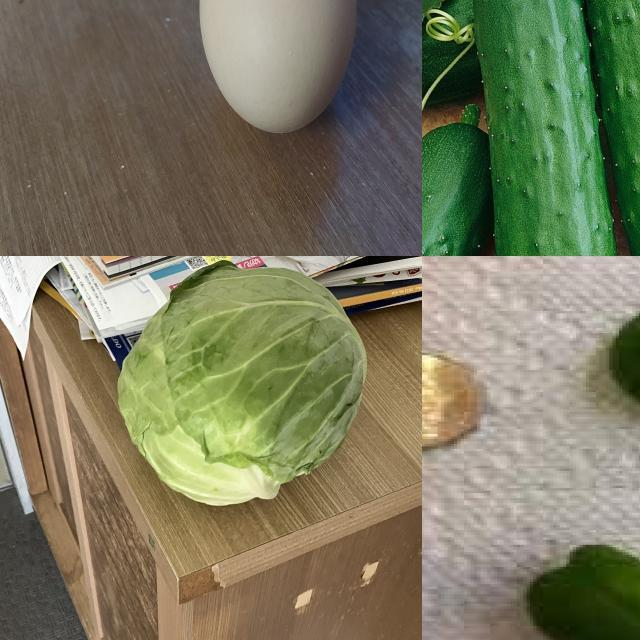bell_pepper: (509, 529, 640, 640)
cabbage: (115, 258, 372, 511)
cucumber: (470, 1, 621, 257), (568, 1, 640, 257), (423, 123, 506, 257)
egg: (186, 1, 369, 146)
